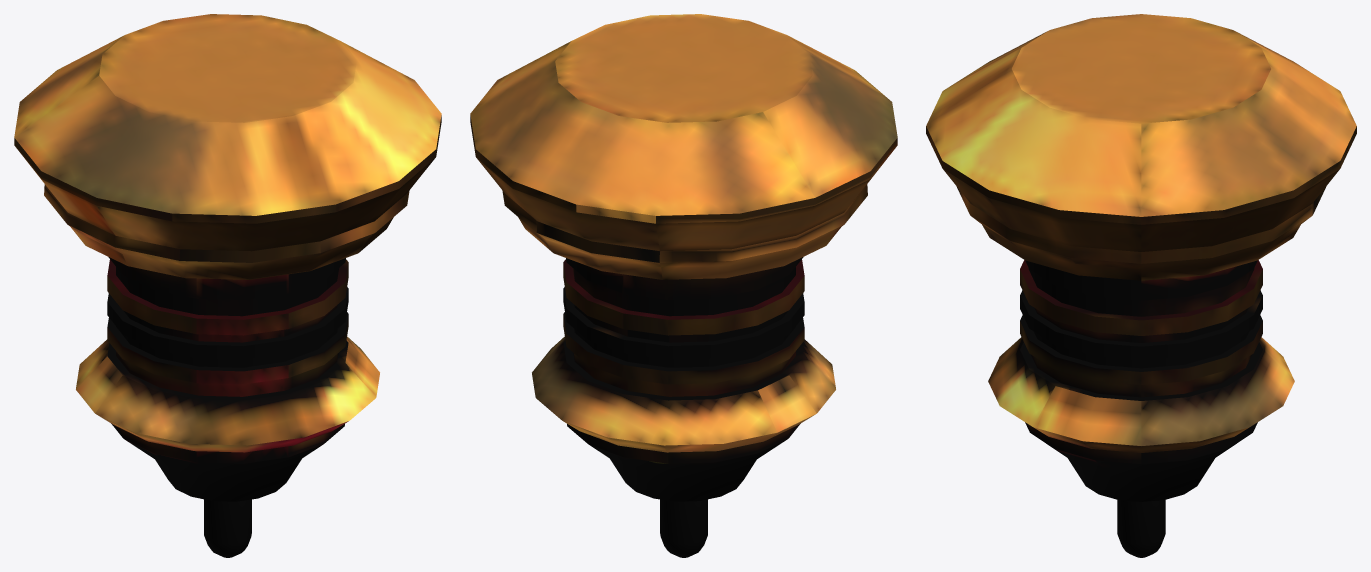
File: taron_pommel.obj
3 views of the same model, side by side, from view 1: azimuth 30°, elevation 25°; view 2: azimuth 150°, elevation 25°; view 3: azimuth 270°, elevation 25° (orthographic).
Parts seen in each view (by area): view 1: Circle; view 2: Circle; view 3: Circle.
Boxes of the visible parts, left/top/right/bottom form: Circle: left=14, top=14, right=441, bottom=557; Circle: left=470, top=14, right=897, bottom=557; Circle: left=926, top=14, right=1356, bottom=557.
Bounding box in the file's own units: 0.2395 × 0.2984 × 0.2395.
